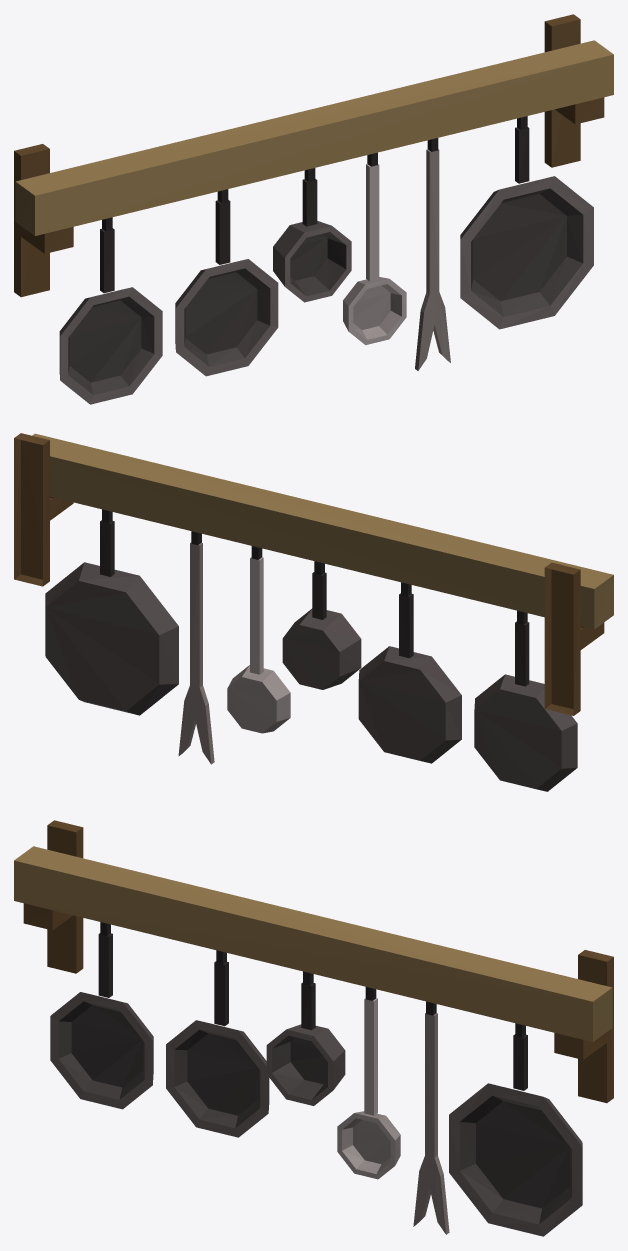
File: utensil_rack.obj
3 views of the same model, one above another, from view 1: azimuth 30°, elevation 25°; view 2: azimuth 150°, elevation 25°; view 3: azimuth 330°, elevation 25° (orthographic).
Parts seen in each view (by area): view 1: Object Utensil rack; view 2: Object Utensil rack; view 3: Object Utensil rack.
Part boxes in pixels (box(x1,y1,x2,y2)): Object Utensil rack: box(14, 14, 613, 404); Object Utensil rack: box(14, 433, 613, 791); Object Utensil rack: box(14, 820, 613, 1236).
Size of the model in its own units: 120 by 58.84 by 11.
